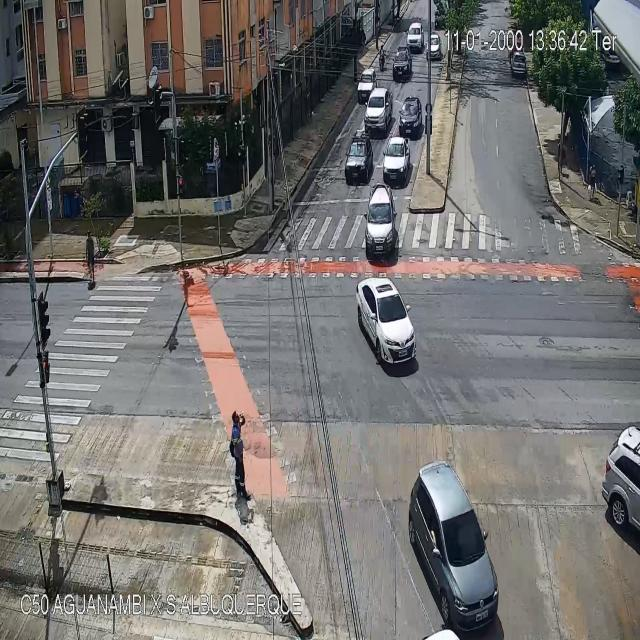Car: (408, 464, 503, 626), (357, 278, 415, 369), (602, 423, 640, 532), (363, 185, 397, 260), (344, 132, 374, 182), (382, 136, 409, 184), (364, 86, 393, 128), (399, 97, 422, 134), (392, 47, 412, 79), (358, 68, 377, 100), (406, 21, 424, 49), (425, 32, 442, 58), (511, 51, 525, 73)
Motorcycle: (378, 44, 386, 72)
